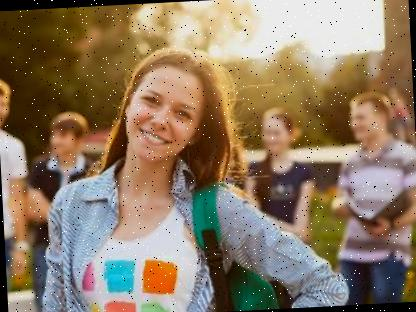person: (22, 33, 267, 312), (325, 85, 416, 305)
